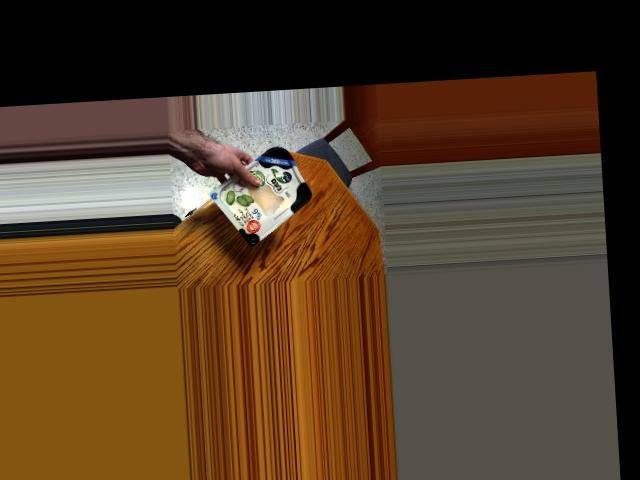cheese: (223, 139, 310, 241)
